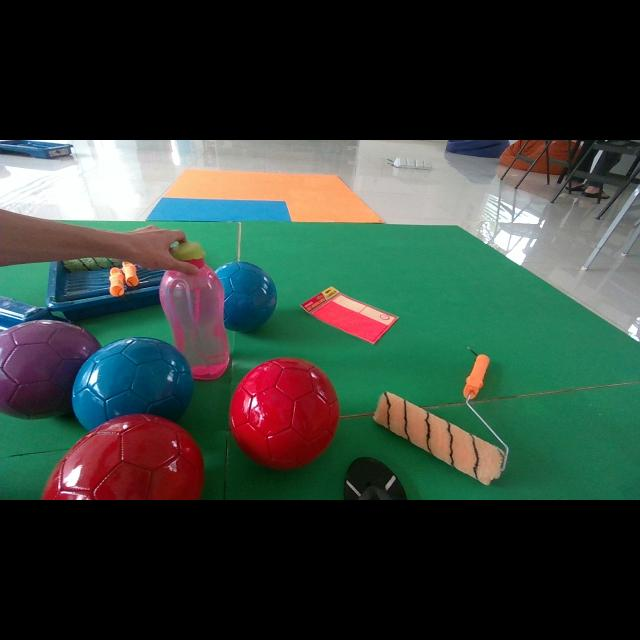B: (72, 338, 194, 430), (215, 261, 276, 331)
P: (0, 320, 100, 419)
R: (42, 414, 204, 500), (230, 358, 339, 470)
